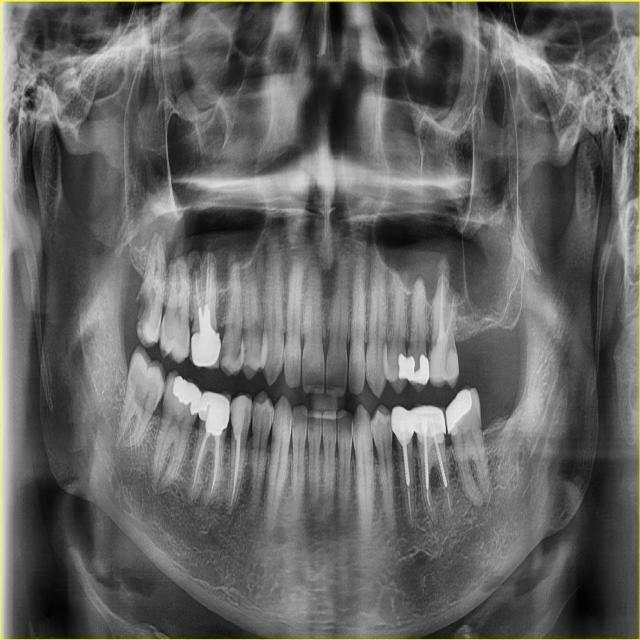71: (427, 417, 451, 490), (421, 416, 430, 490), (400, 429, 410, 486)
74: (187, 430, 212, 490), (437, 269, 456, 347), (231, 433, 242, 507), (211, 434, 221, 495), (192, 269, 202, 309), (205, 252, 212, 305), (207, 266, 212, 305), (407, 488, 411, 520), (426, 490, 431, 510), (447, 492, 451, 512)
NucleOSS Implant: (433, 386, 479, 435), (165, 372, 210, 418), (201, 395, 232, 437), (194, 304, 219, 342), (406, 354, 430, 384), (398, 352, 407, 379)
Sterngold Implant: (135, 284, 154, 333), (219, 336, 232, 365), (234, 343, 242, 365)
Straumann Implant: (428, 335, 459, 387), (224, 391, 250, 440)
Zimmer Implant: (196, 390, 233, 428), (389, 404, 417, 447), (191, 330, 220, 371), (408, 405, 446, 436)
